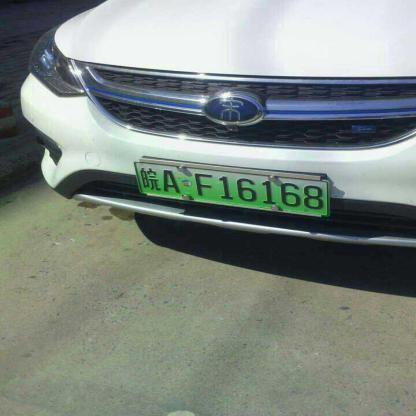lp: (133, 162, 327, 216)
